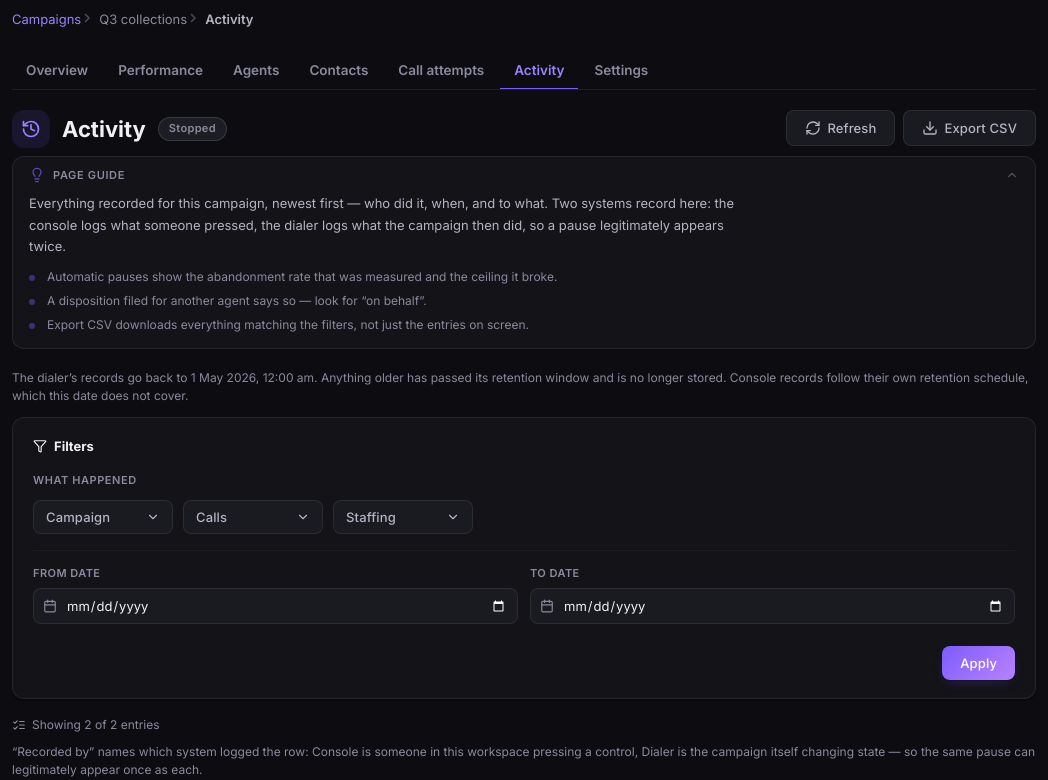
honesty of the page state › blocks an inverted date range before it is ever sent
Type "2026-08-31" into the date field labelled "From date". click: (276, 606)
box: [33, 588, 518, 624]
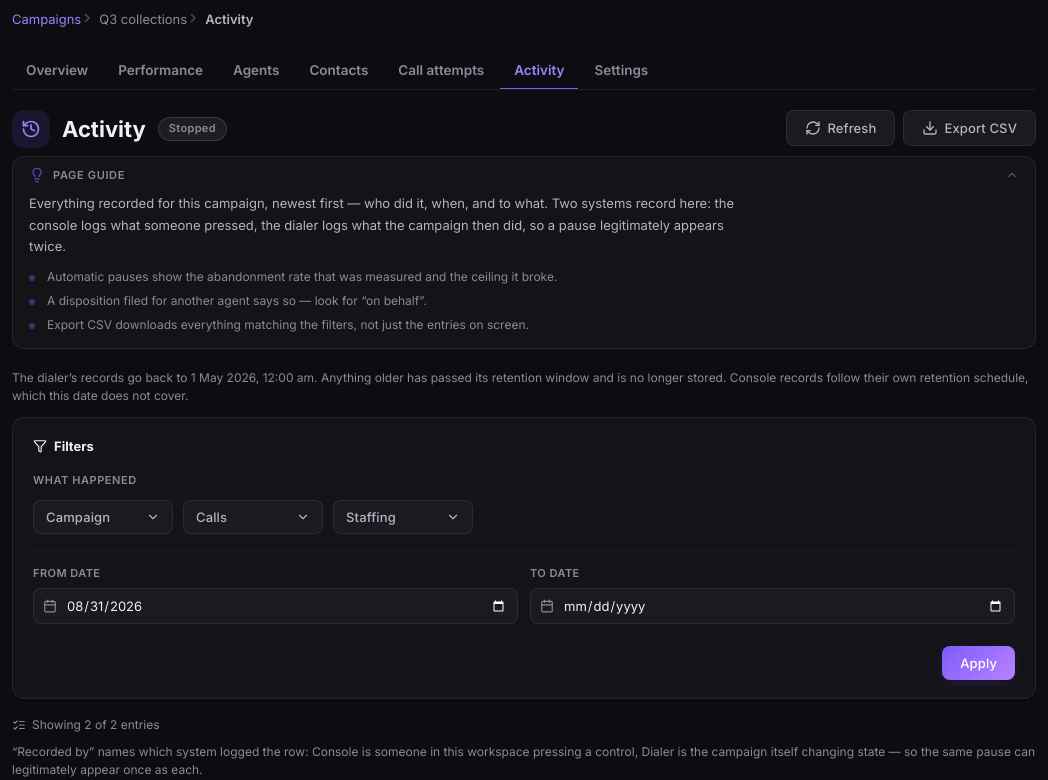
Type "2026-08-01" into the date field labelled "To date". click: (772, 606)
box: [530, 588, 1015, 624]
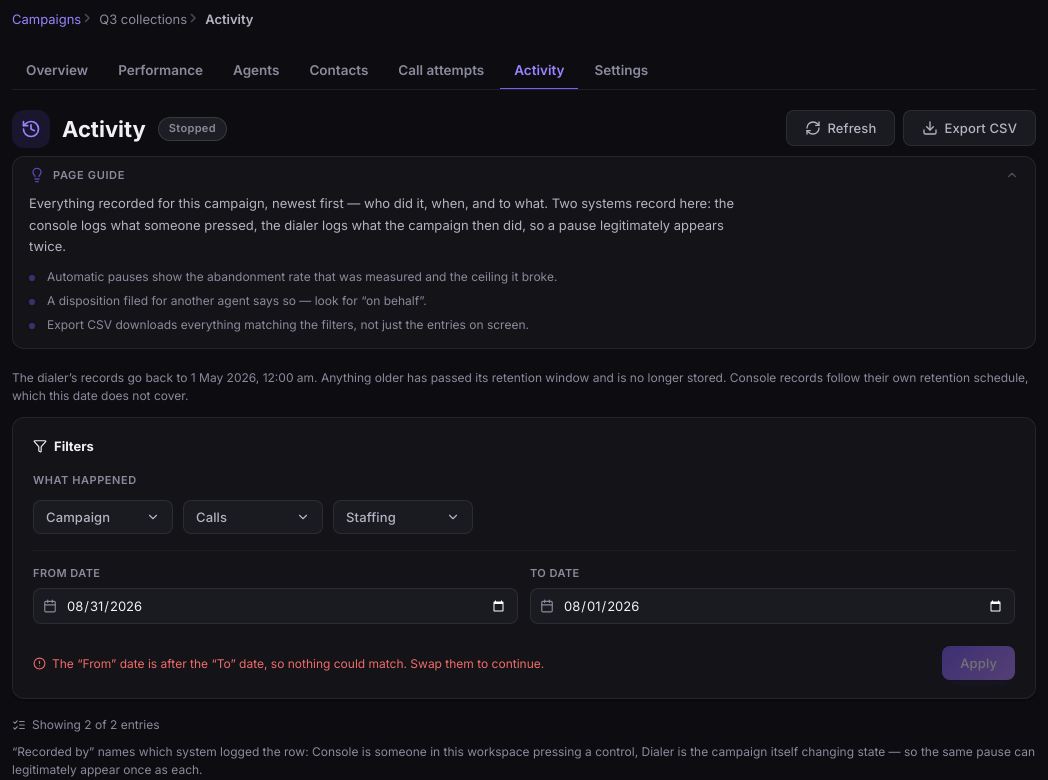
Check: the message with test id "activity-inverted-range" is shown, box [33, 654, 544, 673]
Check: the button "Apply" is disabled, box [942, 646, 1015, 680]
